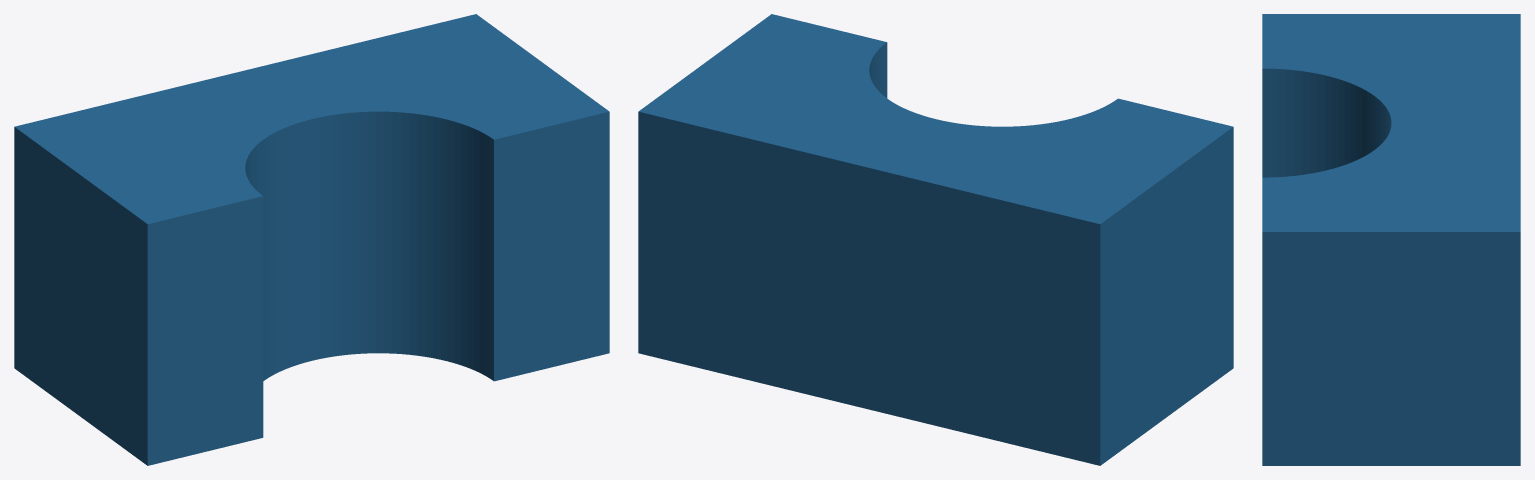
File: SmallArchB.fbx
The picture shows the model from 3 angles, left to right: view 1: azimuth 30°, elevation 25°; view 2: azimuth 150°, elevation 25°; view 3: azimuth 270°, elevation 25°; orthographic projection. The views are drawn at different scales.
Visible parts, largest first — view 1: SmallArchB; view 2: SmallArchB; view 3: SmallArchB.
Part boxes in pixels (x1,y1,x2,y2): SmallArchB: (14, 14, 609, 465); SmallArchB: (638, 14, 1233, 465); SmallArchB: (1262, 14, 1520, 465).
Bounding box in the file's own units: 1200 × 600 × 600.
